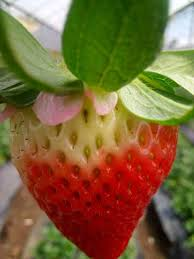unripe: (6, 70, 183, 257)
